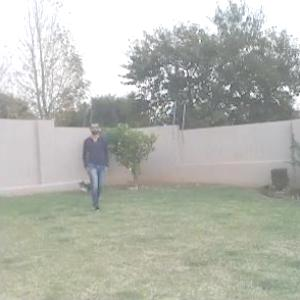follow: (84, 120, 110, 212)
